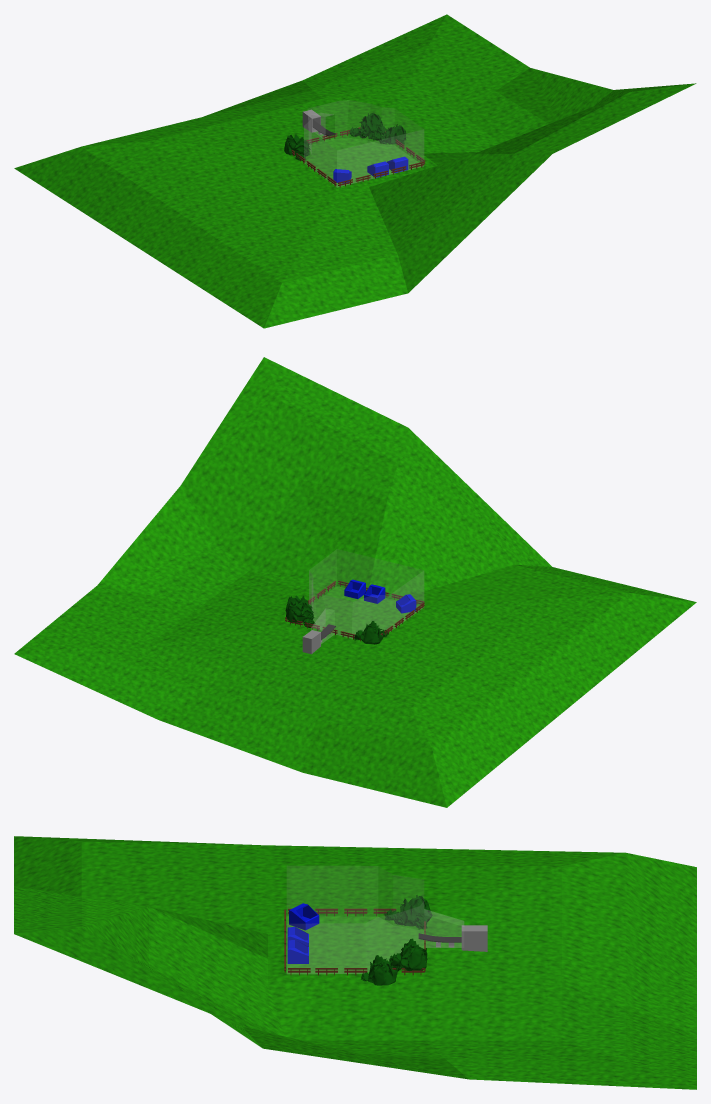
The model's file is junked demo map.fbx.
3 views of the same model, one above another, from view 1: azimuth 30°, elevation 25°; view 2: azimuth 150°, elevation 25°; view 3: azimuth 270°, elevation 25° (orthographic). The views are drawn at different scales.
Visible parts, largest first — view 1: Ground, Bounds, Bushes, Fences; view 2: Ground, Bounds, Bushes, Fences; view 3: Ground, Bounds, Bushes, Fences, Spawner, Container.001, Container.002.
Boxes of the visible parts, x1=… form: Ground: x1=14, y1=14, x2=696, y2=328; Bounds: x1=304, y1=100, x2=423, y2=187; Bushes: x1=284, y1=113, x2=406, y2=160; Fences: x1=291, y1=127, x2=425, y2=187; Ground: x1=14, y1=357, x2=696, y2=807; Bounds: x1=309, y1=549, x2=423, y2=643; Bushes: x1=285, y1=595, x2=388, y2=644; Fences: x1=285, y1=580, x2=424, y2=641; Ground: x1=14, y1=836, x2=696, y2=1089; Bounds: x1=287, y1=866, x2=463, y2=973; Bushes: x1=361, y1=895, x2=432, y2=985; Fences: x1=284, y1=908, x2=425, y2=975; Spawner: x1=418, y1=925, x2=487, y2=951; Container.001: x1=289, y1=903, x2=319, y2=930; Container.002: x1=287, y1=940, x2=308, y2=963.
Size of the model in its own units: 95.86 by 34.34 by 95.86.
